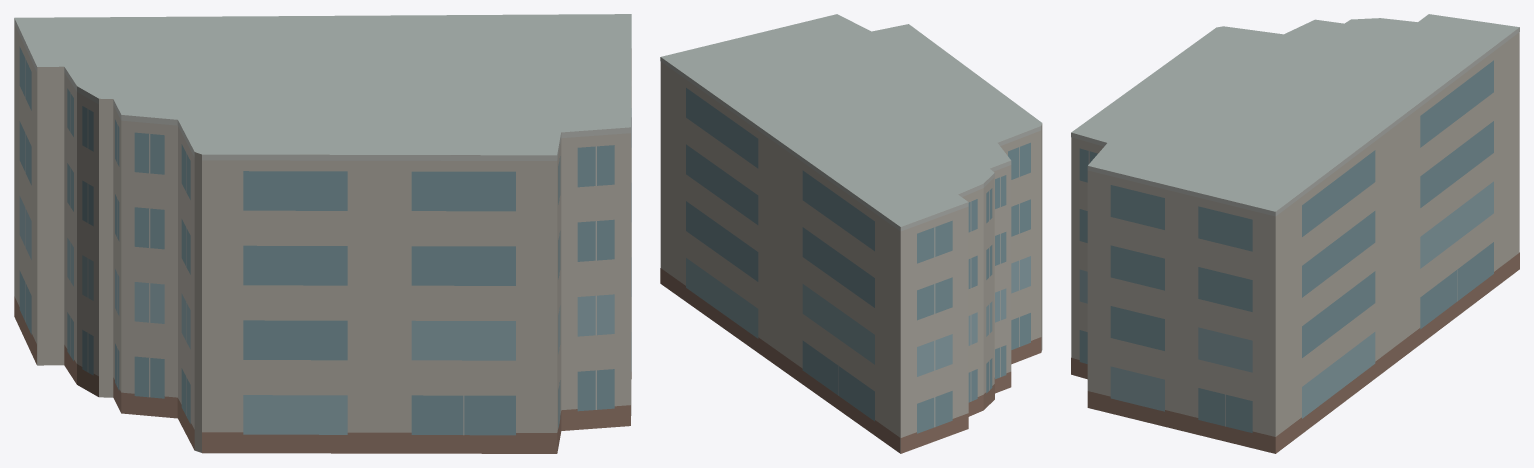
The model's file is survey-upis-33034233.glb.
3 renders of one model, left to right at view 1: azimuth 30°, elevation 25°; view 2: azimuth 150°, elevation 25°; view 3: azimuth 270°, elevation 25°, orthographic. The views are drawn at different scales.
Visible parts, largest first — view 1: survey-upis-33034233.tmp; view 2: survey-upis-33034233.tmp; view 3: survey-upis-33034233.tmp.
Part boxes in pixels (box(x1,y1,x2,y2)): survey-upis-33034233.tmp: box(14, 14, 631, 453); survey-upis-33034233.tmp: box(660, 14, 1042, 453); survey-upis-33034233.tmp: box(1071, 14, 1519, 453).
Bounding box in the file's own units: 22.09 × 12.6 × 21.17.
